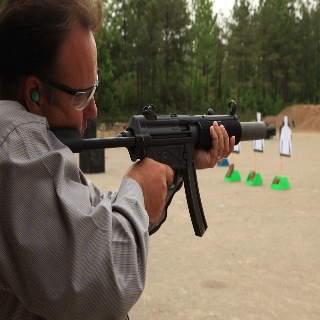rifle: (47, 97, 278, 239)
